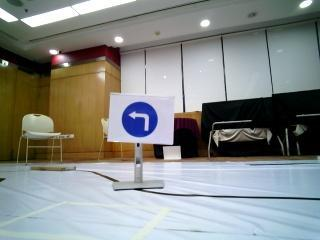left: (111, 93, 173, 143)
